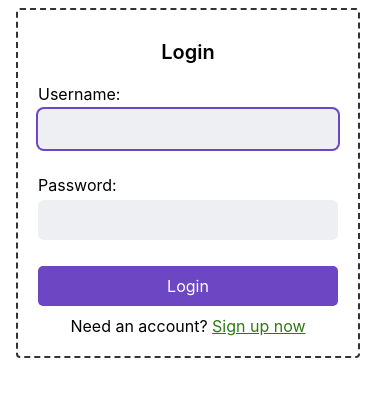
Test case: <Login /> › shows error messages when submitting with empty fields
Click the button "Login": (188, 286) [38,266,338,306]
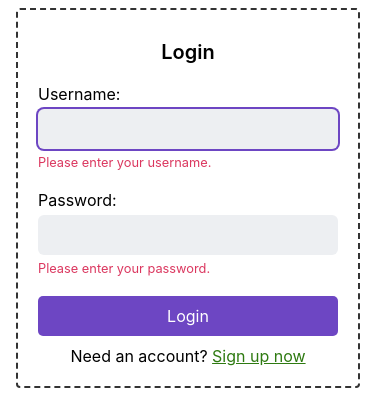
Now the text "Please enter your username." is shown, box [38,155,211,170]
